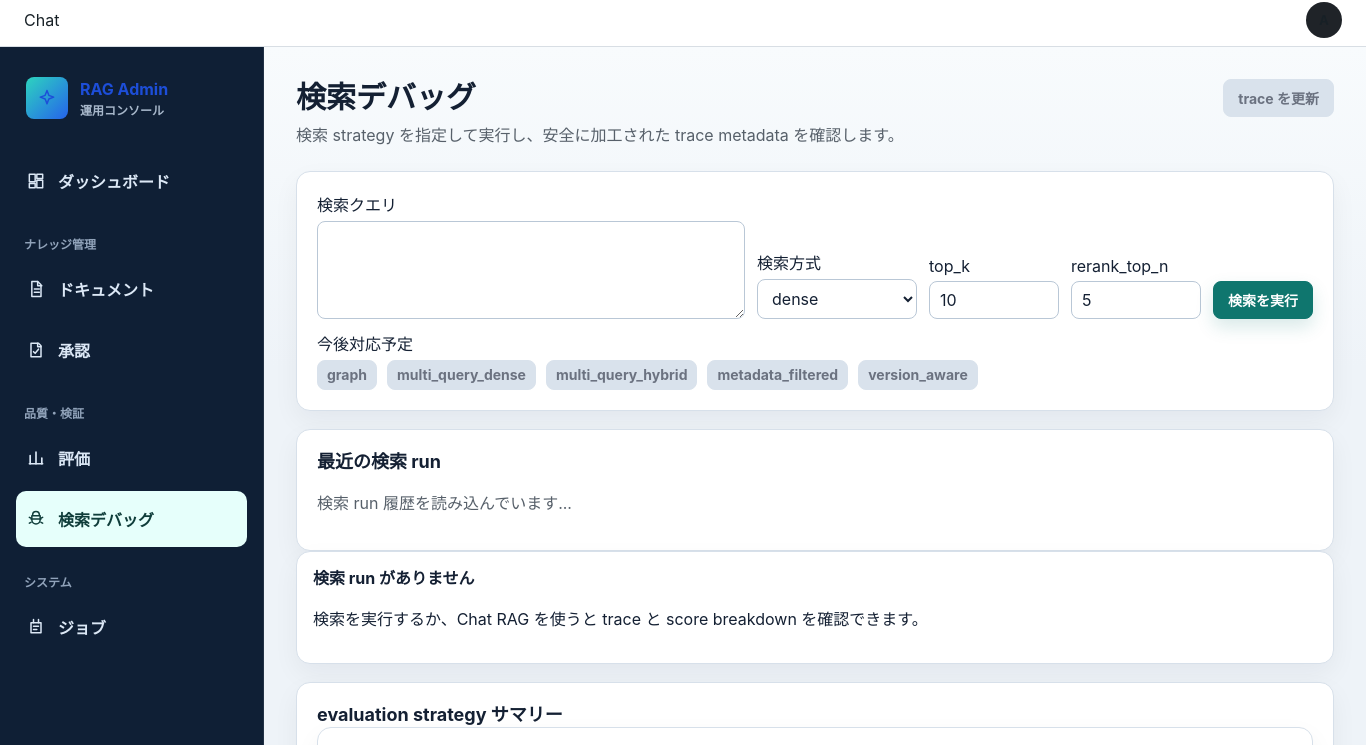
Test: retrieval debug runs hybrid search and renders redacted trace details
The image size is (1366, 745).
expect the heading "検索デバッグ" is shown: met, box [296,79,476,115]
expect the button "graph" is disabled: met, box [317,360,377,390]
Type "hybrid retrieval" into the text box labelled "検索クエリ".
click(531, 270); type("hybrid retrieval")  # box [317,221,745,319]
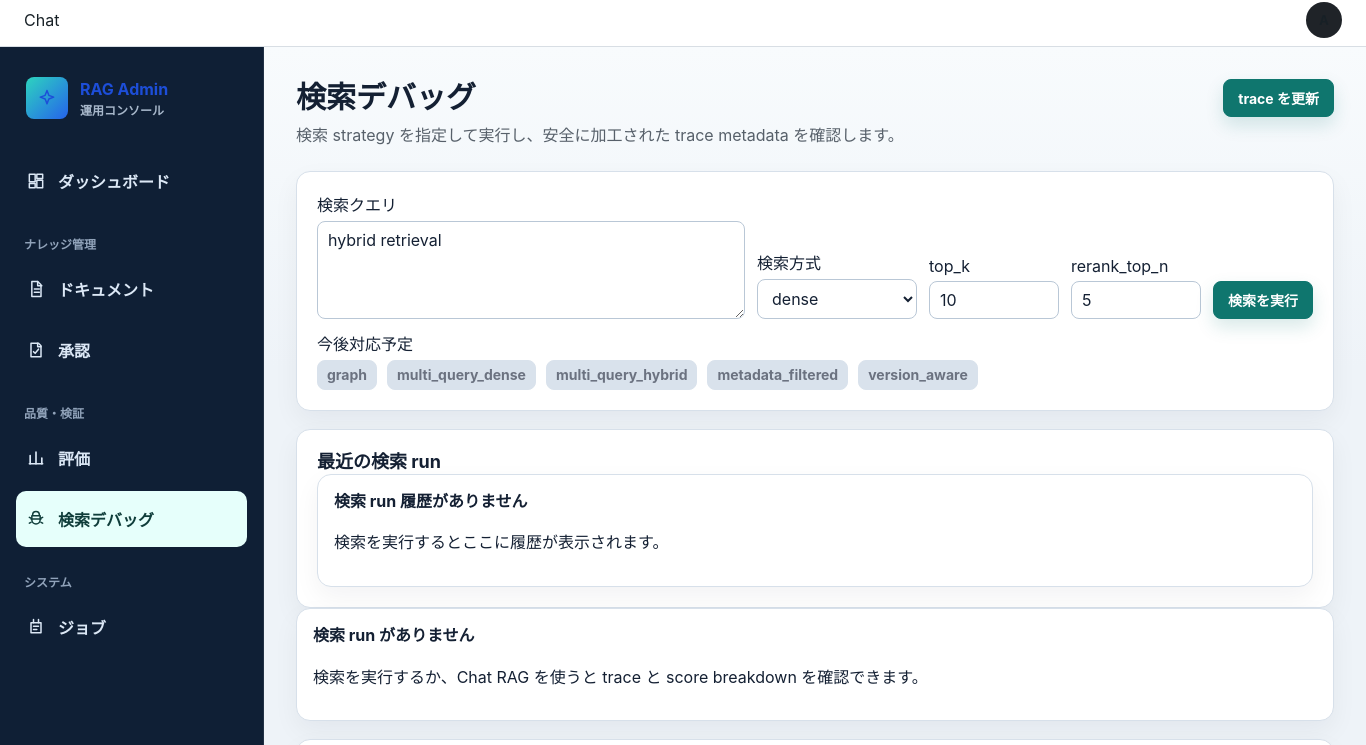
Select "hybrid" in the dropdown labelled "検索方式" at (837, 299), box [757,279,917,319]
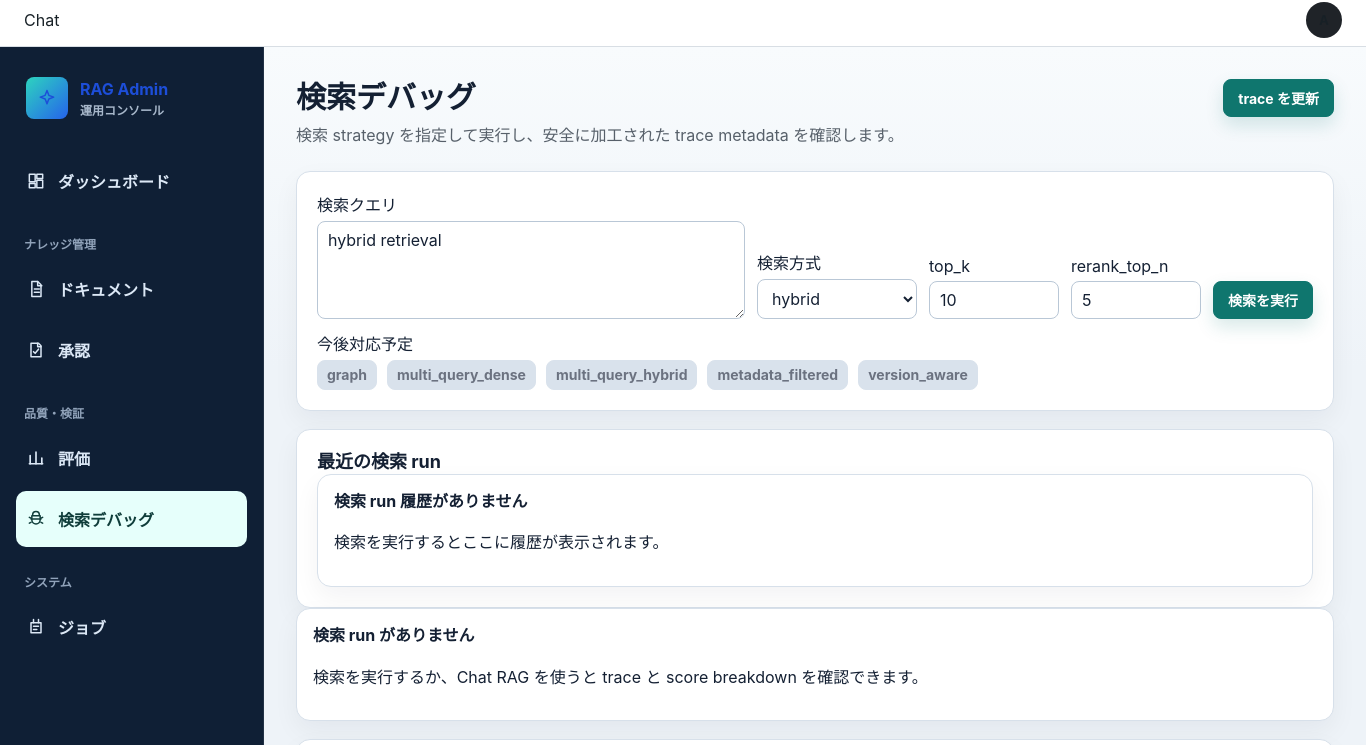
Click the button "検索を実行".
click(1263, 300)  # box [1213,281,1313,319]
(page scrolled)
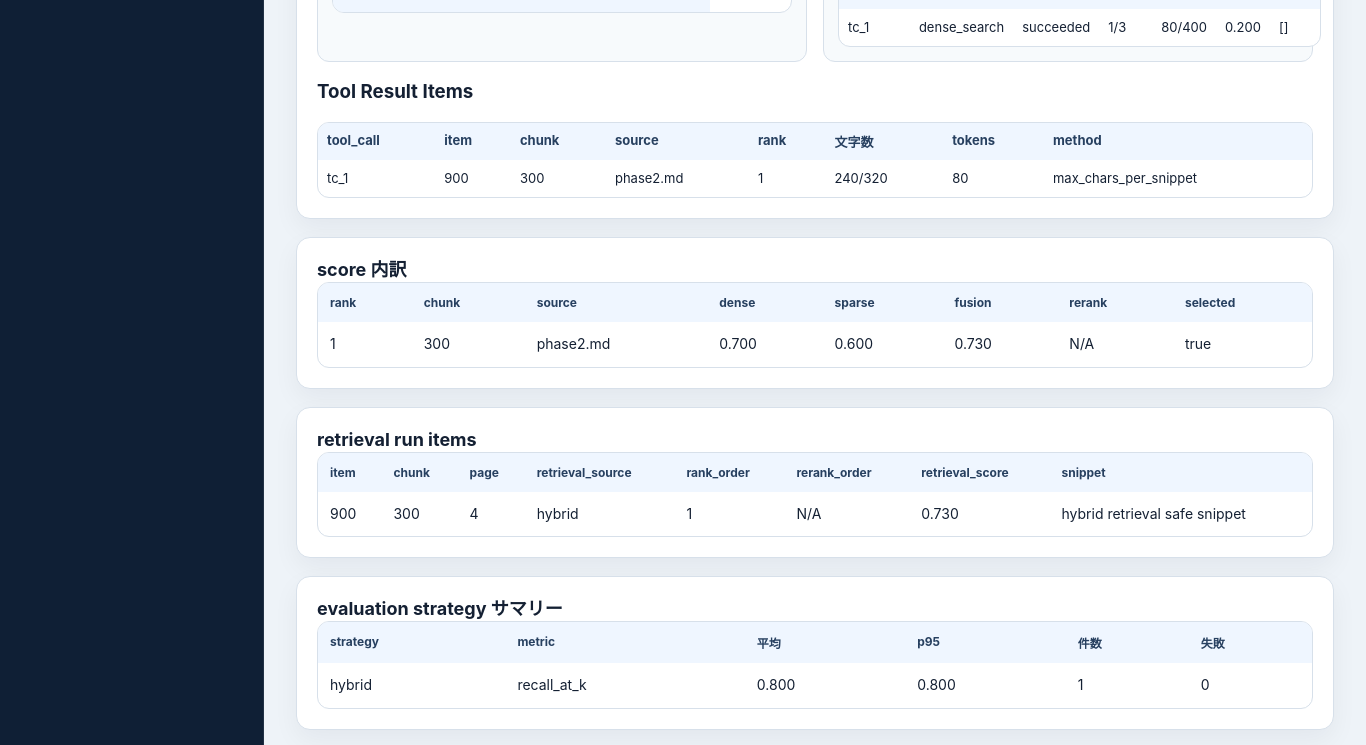
expect the text "dense_search" is shown: met, box [910,9,1013,46]
expect the text "max_chars_per_snippet" is shown: met, box [1044,160,1312,197]
expect the text "hybrid retrieval safe snippet" is shown: met, box [1050,492,1312,536]
